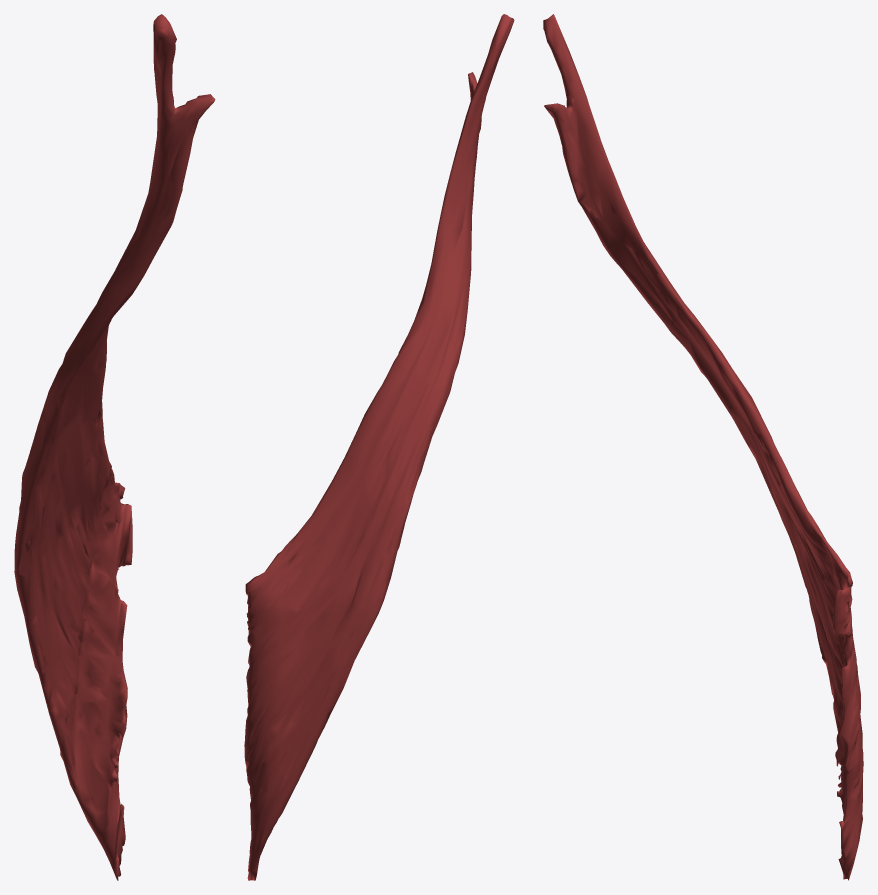
Rendered from splenius-colli-muscle-r.glb.
3 renders of one model, left to right at view 1: azimuth 30°, elevation 25°; view 2: azimuth 150°, elevation 25°; view 3: azimuth 270°, elevation 25°, orthographic. The views are drawn at different scales.
Visible parts, largest first — view 1: Splenius colli muscle.r; view 2: Splenius colli muscle.r; view 3: Splenius colli muscle.r.
Part boxes in pixels (box(x1,y1,x2,y2)): Splenius colli muscle.r: box(14, 14, 215, 880); Splenius colli muscle.r: box(244, 14, 514, 880); Splenius colli muscle.r: box(543, 14, 863, 880).
Size of the model in its own units: 0.0437 by 0.2576 by 0.0923.
